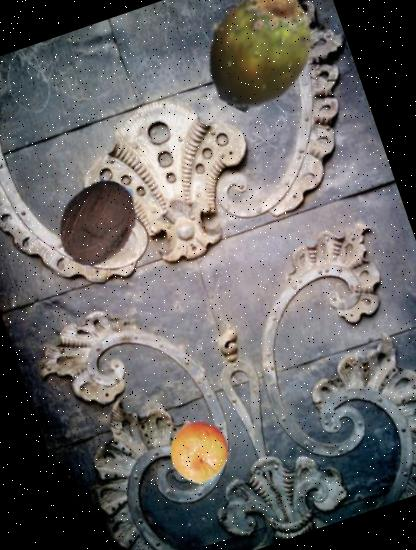Cactus: (177, 0, 337, 128)
Cocos: (40, 165, 154, 279)
Mandarine: (159, 410, 242, 493)
